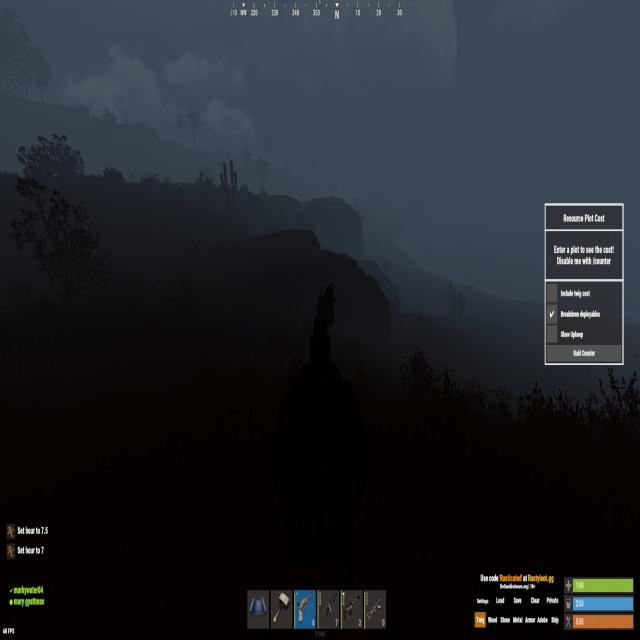Player: (314, 277, 343, 335)
